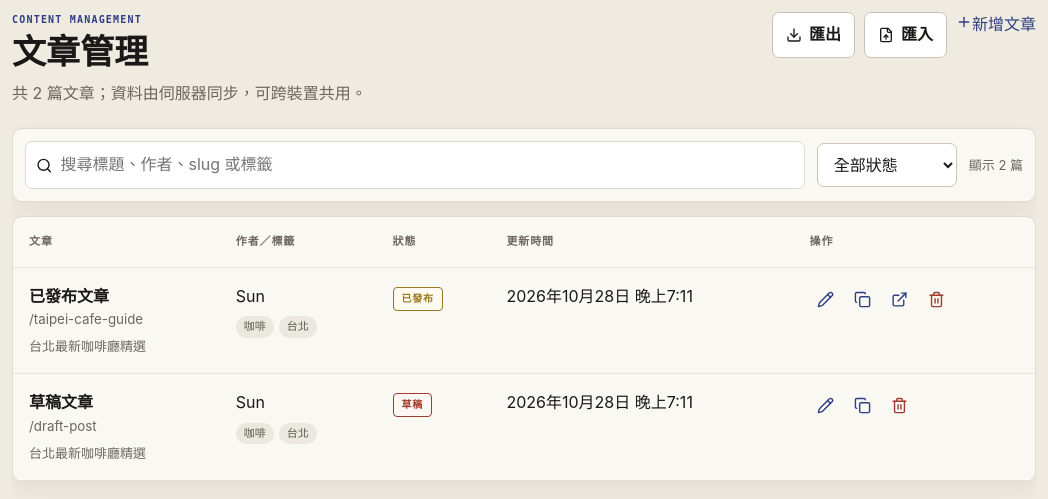
ArticleListPage — listing and filtering › filters the list by status
Expected: the text "已發布文章" is shown, [29,286,109,306]
Step 1. Select "草稿" in the dropdown named "文章狀態" → {"x": 887, "y": 165}, box [817,143,957,187]
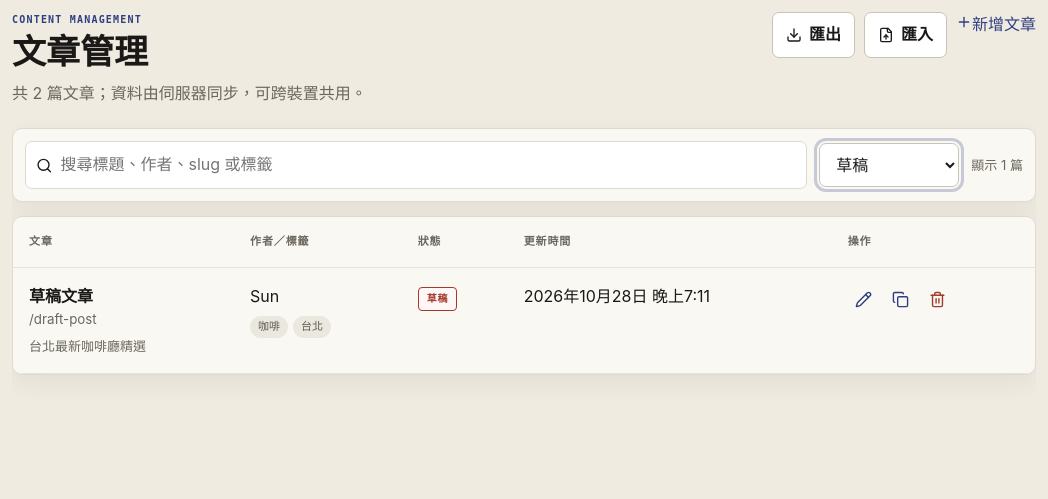
Expected: the text "草稿文章" is shown, [29,286,93,306]
Now the text "已發布文章" is gone
